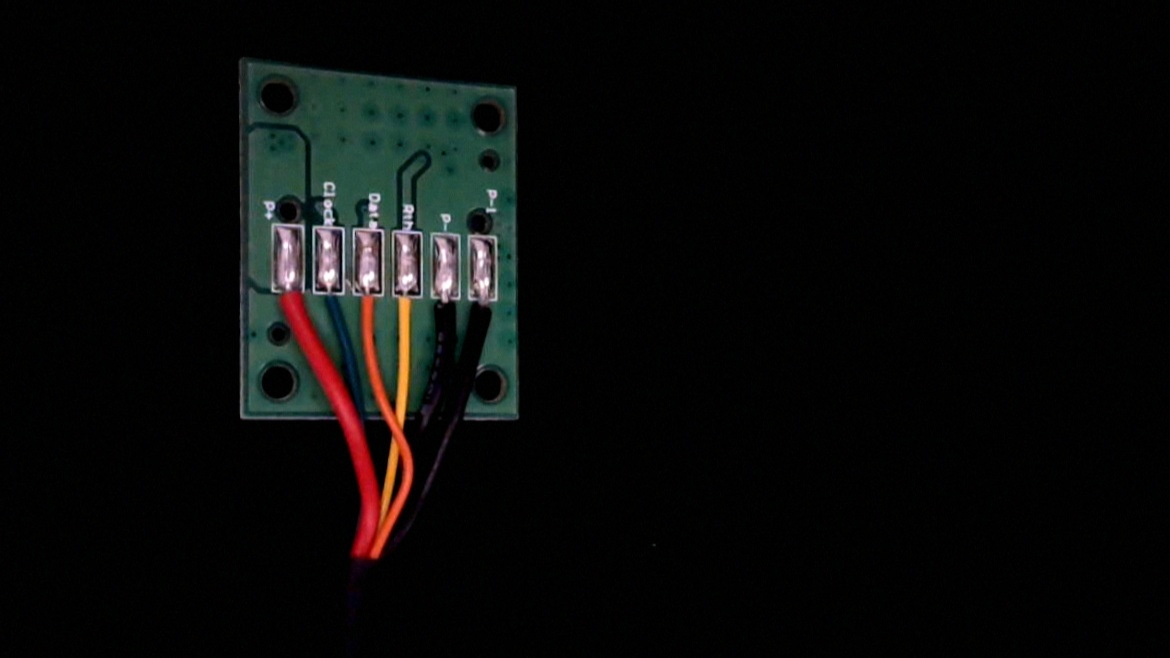Black: (427, 275, 461, 351)
Black1: (469, 280, 502, 349)
Green: (314, 267, 346, 330)
Orange: (354, 270, 386, 345)
Red: (271, 270, 303, 334)
Yellow: (391, 272, 425, 349)
